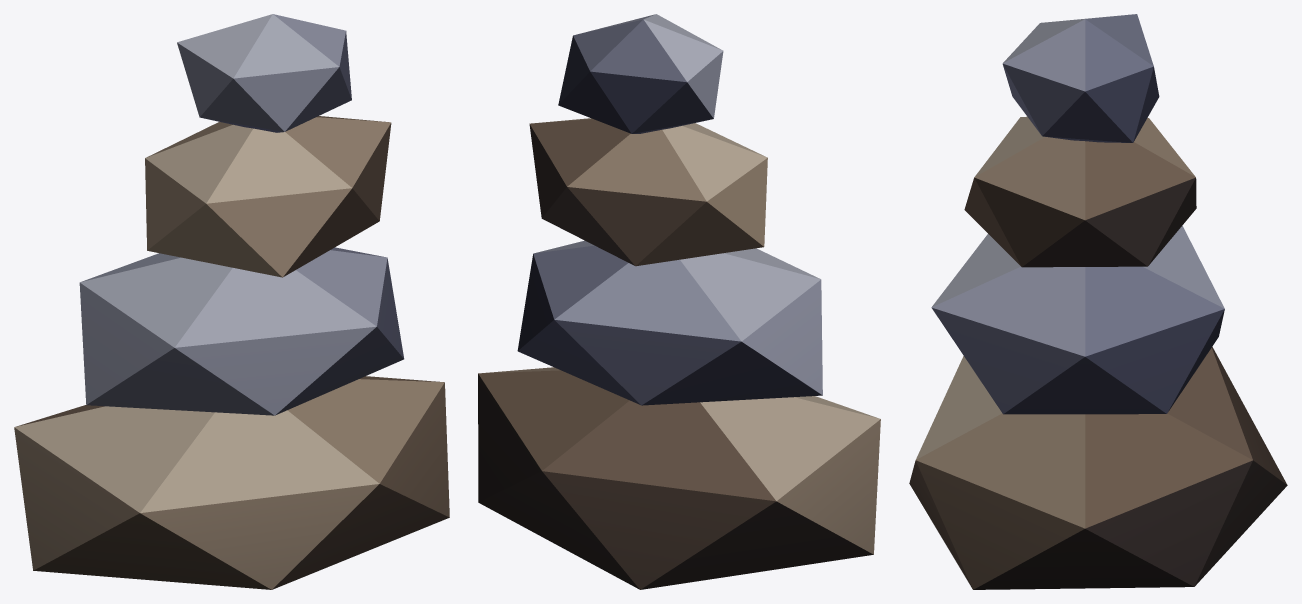
Rendered from cairn.glb.
3 renders of one model, left to right at view 1: azimuth 30°, elevation 25°; view 2: azimuth 150°, elevation 25°; view 3: azimuth 270°, elevation 25°, orthographic. The views are drawn at different scales.
Parts seen in each view (by area): view 1: cairn; view 2: cairn; view 3: cairn.
Part boxes in pixels (box(x1,y1,x2,y2)): cairn: box(14, 14, 449, 589); cairn: box(478, 14, 880, 589); cairn: box(909, 14, 1287, 589).
Size of the model in its own units: 0.4141 by 0.5229 by 0.3196.
